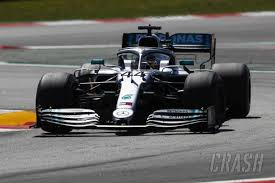FormulaOneCar: (32, 23, 255, 140)
